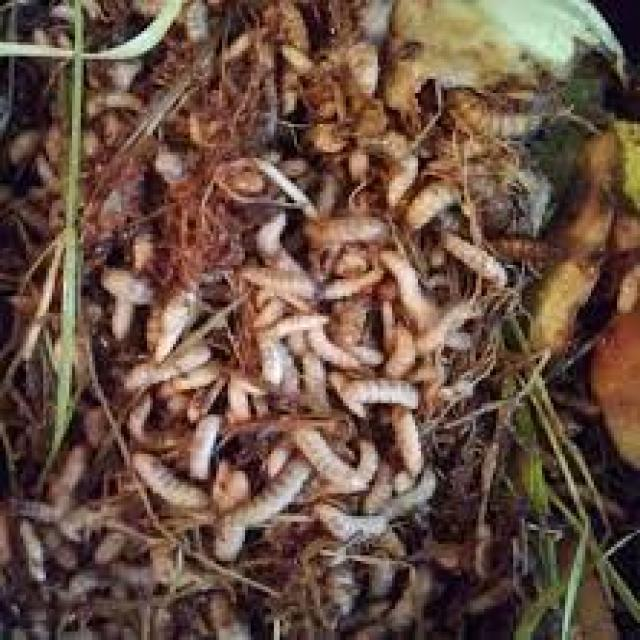Wet: (72, 28, 470, 610), (494, 121, 640, 596)
